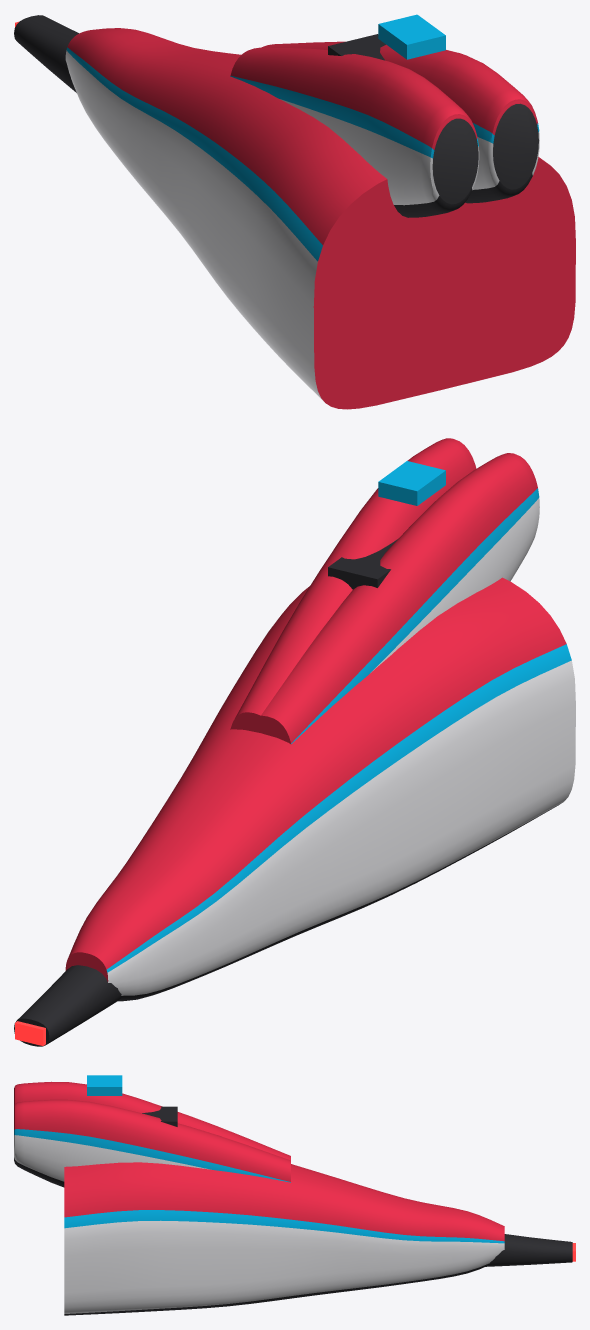
The model's file is twin_airbox.glb.
3 views of the same model, one above another, from view 1: azimuth 30°, elevation 25°; view 2: azimuth 150°, elevation 25°; view 3: azimuth 270°, elevation 25° (orthographic). The views are drawn at different scales.
Parts seen in each view (by area): view 1: EngineCover_twin_airbox; view 2: EngineCover_twin_airbox; view 3: EngineCover_twin_airbox.
Boxes of the visible parts, x1,y1,x2,y2 form: EngineCover_twin_airbox: [14, 14, 575, 409]; EngineCover_twin_airbox: [14, 438, 575, 1046]; EngineCover_twin_airbox: [14, 1075, 575, 1315].
Size of the model in its own units: 0.74 by 0.9064 by 2.23.
